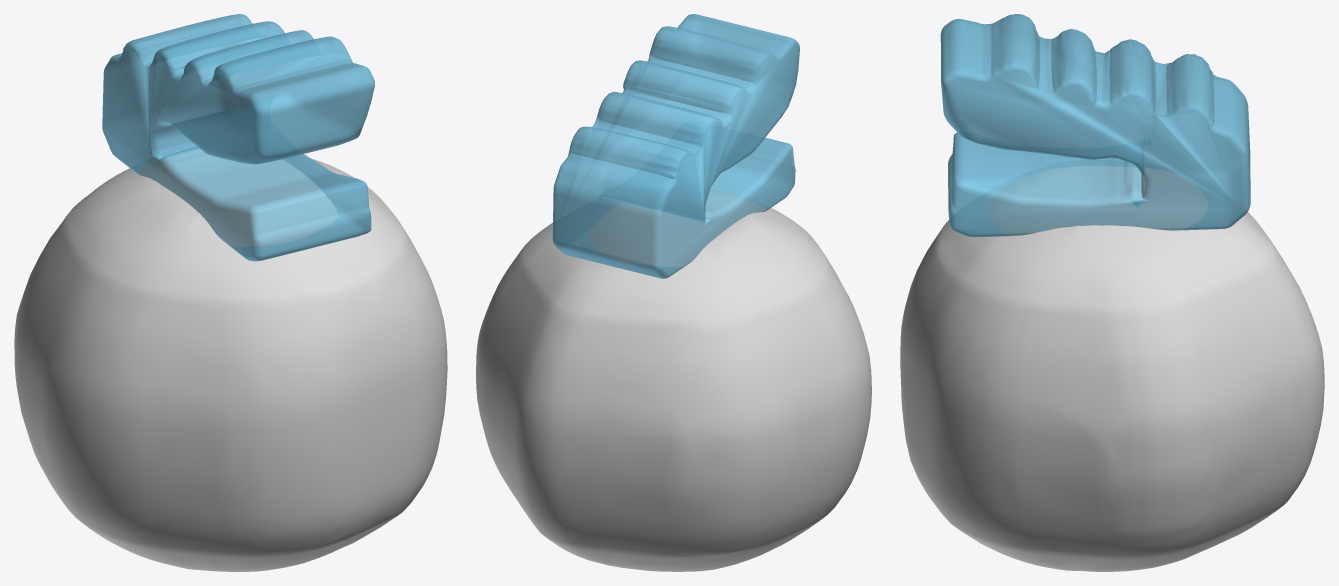
Rendered from clic22.glb.
3 views of the same model, side by side, from view 1: azimuth 30°, elevation 25°; view 2: azimuth 150°, elevation 25°; view 3: azimuth 270°, elevation 25° (orthographic). The views are drawn at different scales.
Visible parts, largest first — view 1: Cylinder.045, Plane.030; view 2: Cylinder.045, Plane.030; view 3: Cylinder.045, Plane.030.
Boxes of the visible parts, x1,y1,x2,y2 form: Cylinder.045: (14,149,447,571); Plane.030: (102,14,374,261); Cylinder.045: (476,189,871,571); Plane.030: (552,14,799,278); Cylinder.045: (900,166,1324,571); Plane.030: (940,14,1250,237).
Size of the model in its own units: 80.33 by 106 by 80.95.
